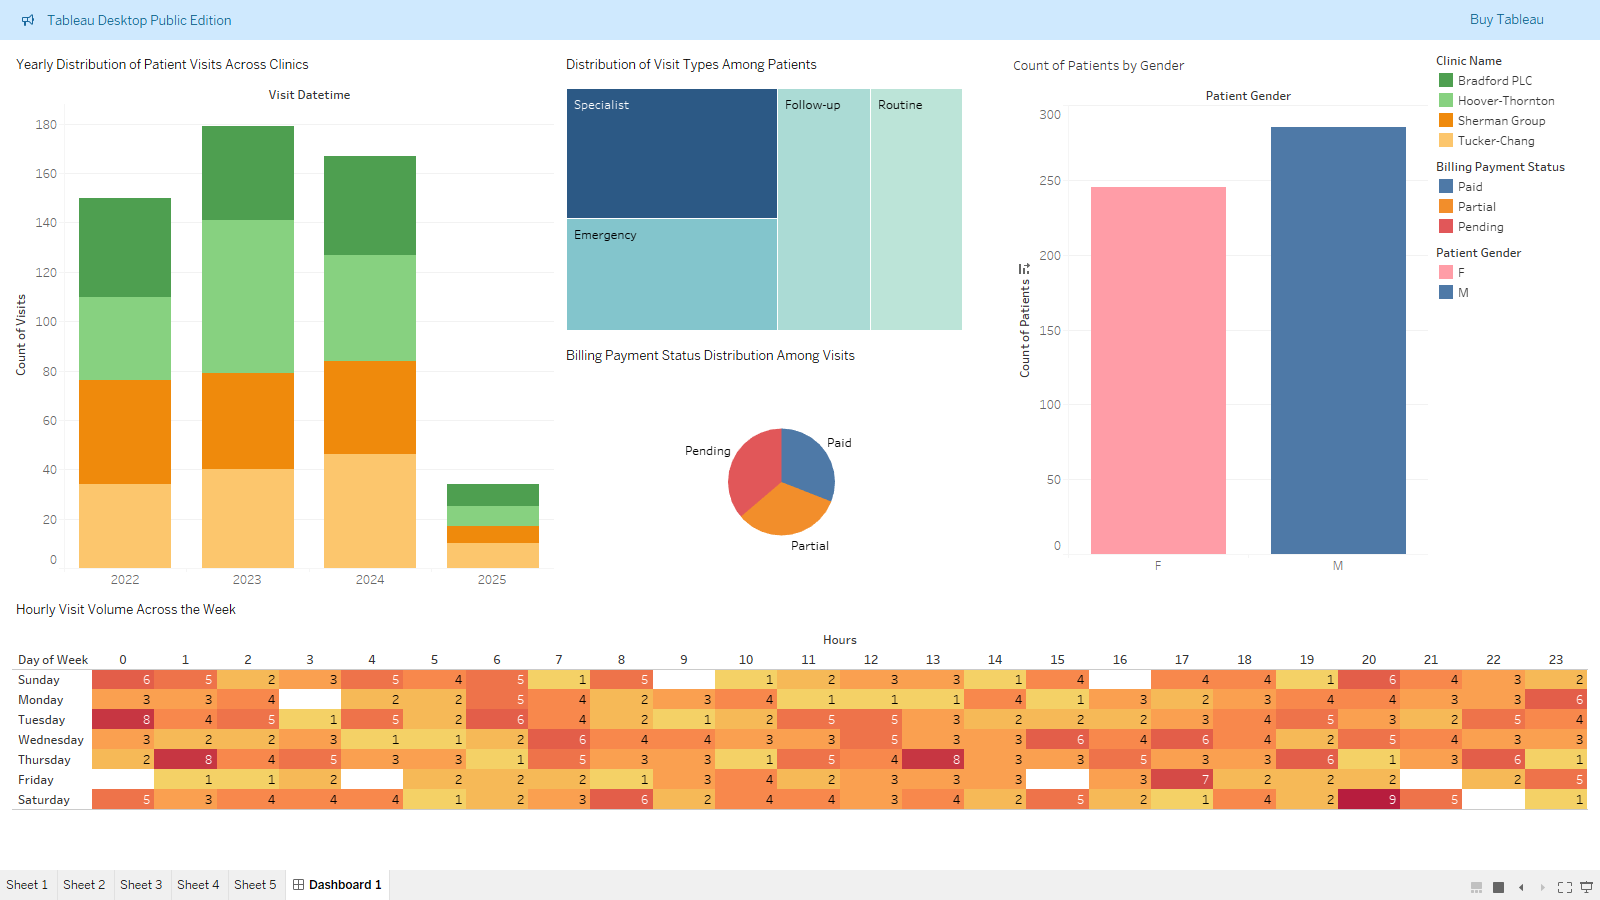

What the dashboard file says about the page in this screenshot:
{"tool":"tableau","page":{"name":"Dashboard 1","canvas":[1000,1000],"units":"permille","ordinal":0},"visuals":[{"type":"worksheet","title":"Sheet 5","mark":"Bar","rows":["visit_id"],"cols":["visit_datetime"],"box":[5.8,11.8,395.7,653.9]},{"type":"worksheet","title":"Sheet 3","mark":"Automatic","box":[401.4,11.8,322.1,349.1]},{"type":"worksheet","title":"Sheet 1","mark":"Automatic","rows":["patient_id"],"cols":["patient_gender"],"box":[723.5,11.8,155.5,653.9]},{"type":"legend","title":"Sheet 5","param":"[federated.1o8fjef1q824na13tufbh0c5r4fu].[none:clinic_name:nk]","box":[879,11.8,115.2,156.8]},{"type":"legend","title":"Sheet 2","param":"[federated.1o8fjef1q824na13tufbh0c5r4fu].[none:billing_payment_status:nk]","box":[879,168.6,115.2,127.2]},{"type":"legend","title":"Sheet 1","param":"[federated.1o8fjef1q824na13tufbh0c5r4fu].[none:patient_gender:nk]","box":[879,295.8,115.2,97.6]},{"type":"worksheet","title":"Sheet 2","mark":"Pie","box":[401.4,360.9,322.1,304.7]},{"type":"worksheet","title":"Sheet 4","mark":"Square","rows":["Calculation_1744863446336622593"],"cols":["Calculation_1744863446335918080"],"box":[5.8,665.7,988.5,322.5]}]}

Visuals, with their boxes on the dashboard's canvas, which has no fixed pixel size, in thousandths of its width and height (x1, y1, x2, y2). These are canvas units, not pixel positions in the 1600x900 screenshot, which may show the page scaled, cropped or inside an application window:
"Sheet 5" worksheet (Bar marks): rect(6, 12, 402, 666)
"Sheet 3" worksheet: rect(401, 12, 724, 361)
"Sheet 1" worksheet: rect(724, 12, 879, 666)
"Sheet 5" legend: rect(879, 12, 994, 169)
"Sheet 2" legend: rect(879, 169, 994, 296)
"Sheet 1" legend: rect(879, 296, 994, 393)
"Sheet 2" worksheet (Pie marks): rect(401, 361, 724, 666)
"Sheet 4" worksheet (Square marks): rect(6, 666, 994, 988)
